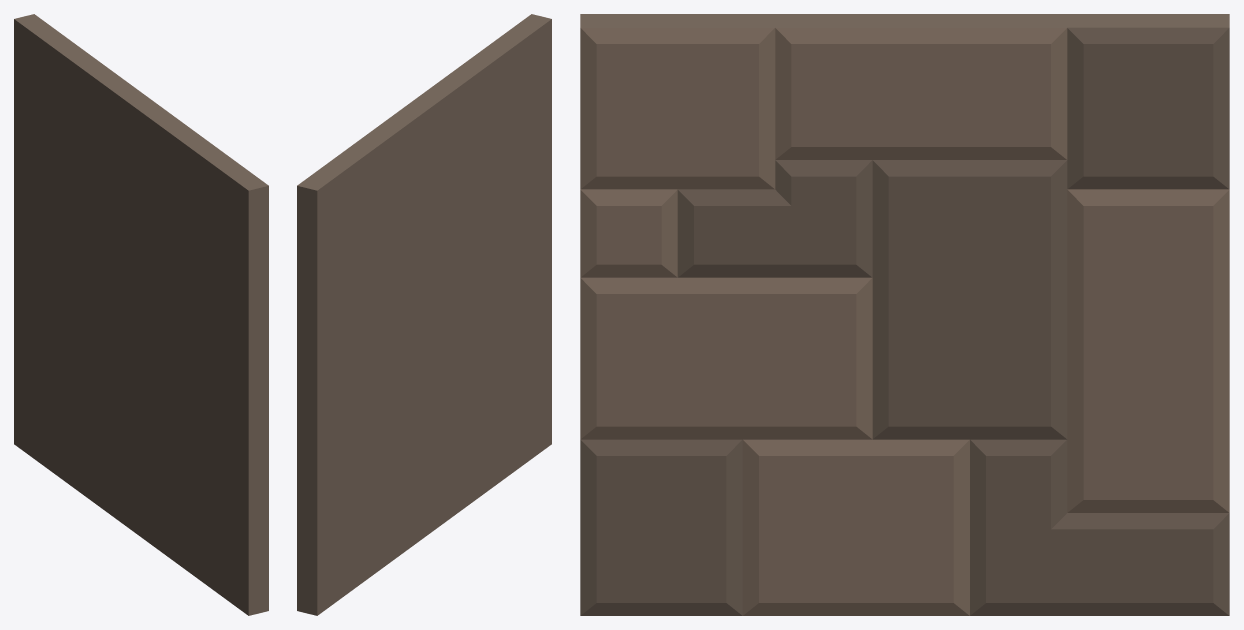
The model's file is Stone_Wall_4.obj.
The picture shows the model from 3 angles, left to right: view 1: azimuth 30°, elevation 25°; view 2: azimuth 150°, elevation 25°; view 3: azimuth 270°, elevation 25°; orthographic projection. The views are drawn at different scales.
Parts seen in each view (by area): view 1: object1; view 2: object1; view 3: object1.
Boxes of the visible parts, box(x1,y1,x2,y2) form: object1: box(14, 14, 268, 615); object1: box(297, 14, 551, 615); object1: box(580, 14, 1229, 615).
Size of the model in its own units: 0.0563 by 1 by 1.
